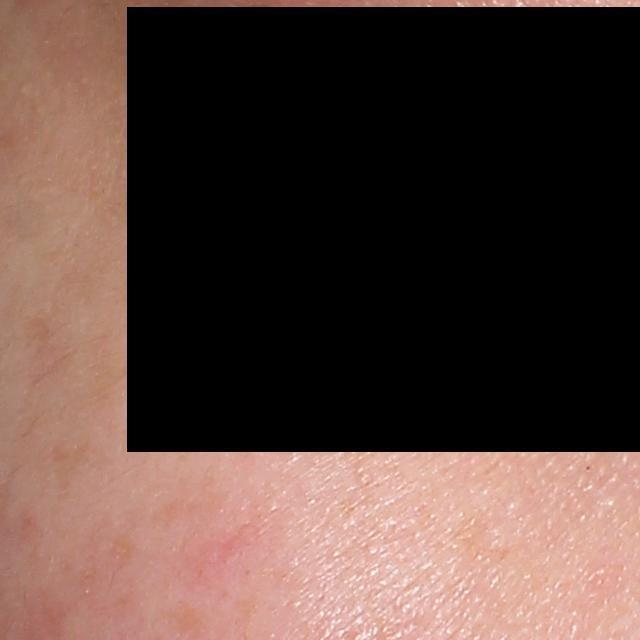melasma: (22, 261, 182, 422), (308, 407, 405, 532), (49, 437, 107, 512), (452, 504, 513, 569), (105, 532, 143, 569)
